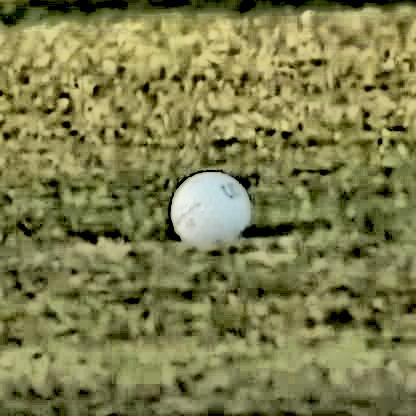golfball: (165, 169, 248, 249)
